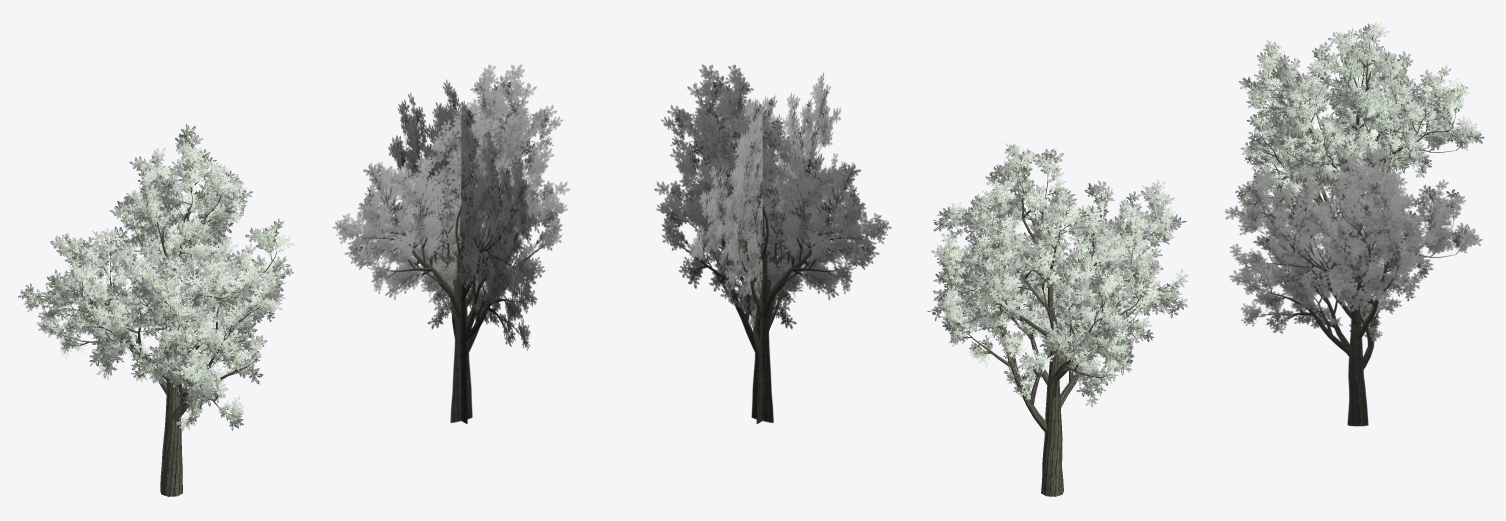
File: tree5.glb
The picture shows the model from 3 angles, left to right: view 1: azimuth 30°, elevation 25°; view 2: azimuth 150°, elevation 25°; view 3: azimuth 270°, elevation 25°; orthographic projection. The views are drawn at different scales.
Parts seen in each view (by area): view 1: Empty.016, Leaves_LOD0.004, Branches_LOD0.004; view 2: Empty.016, Leaves_LOD0.004, Branches_LOD0.004; view 3: Empty.016, Leaves_LOD0.004, Branches_LOD0.004.
Boxes of the visible parts, x1,y1,x2,y2 form: Empty.016: (332, 64, 569, 423); Leaves_LOD0.004: (18, 124, 294, 431); Branches_LOD0.004: (40, 164, 279, 496); Empty.016: (654, 64, 891, 423); Leaves_LOD0.004: (927, 143, 1188, 407); Branches_LOD0.004: (947, 171, 1163, 496); Empty.016: (1225, 146, 1482, 426); Leaves_LOD0.004: (1235, 21, 1484, 237); Branches_LOD0.004: (1259, 41, 1460, 307).
Size of the model in its own units: 69.37 by 46.99 by 34.81.
Materials: 3 (3 with a texture image).
